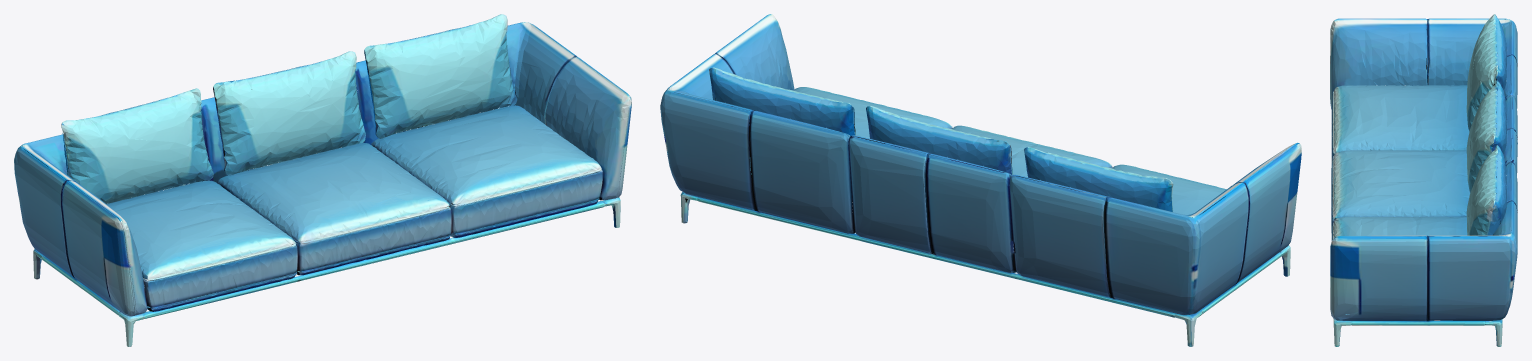
File: edited_mesh.glb
The picture shows the model from 3 angles, left to right: view 1: azimuth 30°, elevation 25°; view 2: azimuth 150°, elevation 25°; view 3: azimuth 270°, elevation 25°; orthographic projection. The views are drawn at different scales.
Visible parts, largest first — view 1: solid_001_wire; view 2: solid_001_wire; view 3: solid_001_wire.
Part boxes in pixels (x1,y1,x2,y2): solid_001_wire: (14, 14, 631, 346); solid_001_wire: (660, 14, 1301, 346); solid_001_wire: (1330, 14, 1517, 346).
Bounding box in the file's own units: 2 × 0.5632 × 0.7137.
1 material, 1 textured.
